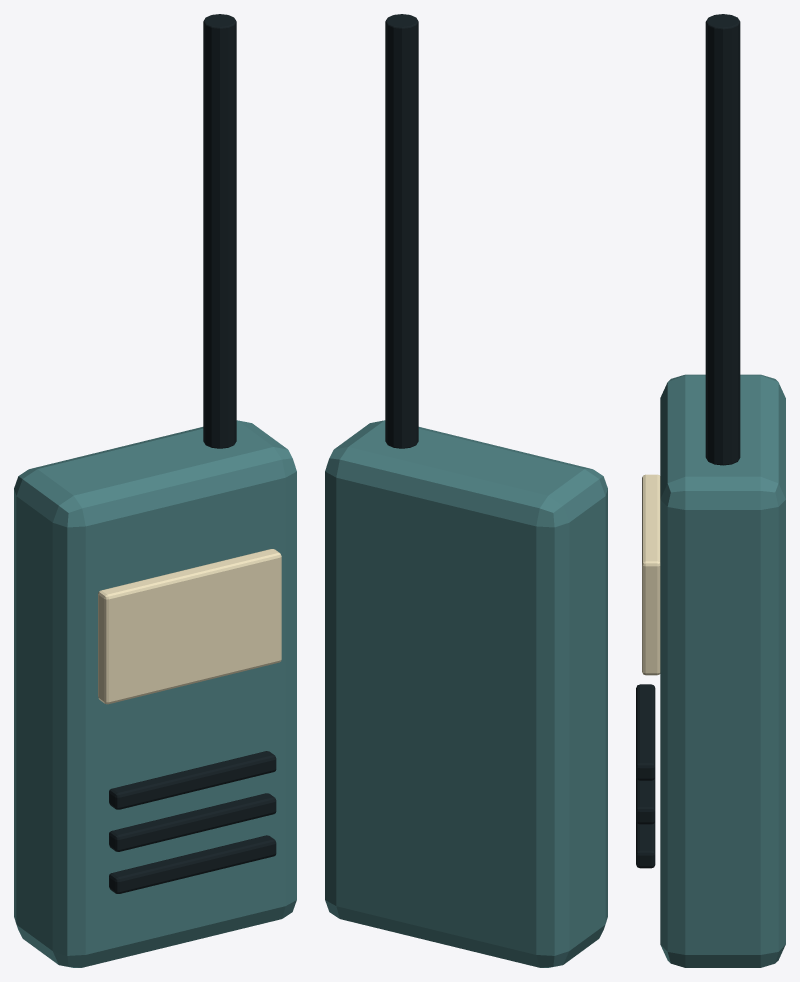
The model's file is hand-radio.glb.
3 views of the same model, side by side, from view 1: azimuth 30°, elevation 25°; view 2: azimuth 150°, elevation 25°; view 3: azimuth 270°, elevation 25° (orthographic). The views are drawn at different scales.
Parts seen in each view (by area): view 1: hand-radio__hand-radio__petrol, hand-radio__hand-radio__rubber, hand-radio__hand-radio__gauge-face; view 2: hand-radio__hand-radio__petrol, hand-radio__hand-radio__rubber; view 3: hand-radio__hand-radio__petrol, hand-radio__hand-radio__rubber, hand-radio__hand-radio__gauge-face.
Part boxes in pixels (x1=…): hand-radio__hand-radio__petrol: x1=14, y1=420, x2=296, y2=967; hand-radio__hand-radio__rubber: x1=109, y1=14, x2=276, y2=893; hand-radio__hand-radio__gauge-face: x1=98, y1=549, x2=281, y2=704; hand-radio__hand-radio__petrol: x1=325, y1=420, x2=607, y2=967; hand-radio__hand-radio__rubber: x1=385, y1=14, x2=418, y2=448; hand-radio__hand-radio__petrol: x1=660, y1=374, x2=785, y2=967; hand-radio__hand-radio__rubber: x1=636, y1=14, x2=740, y2=868; hand-radio__hand-radio__gauge-face: x1=642, y1=474, x2=660, y2=675.
Bounding box in the file's own units: 0.15 × 0.53 × 0.0775.
